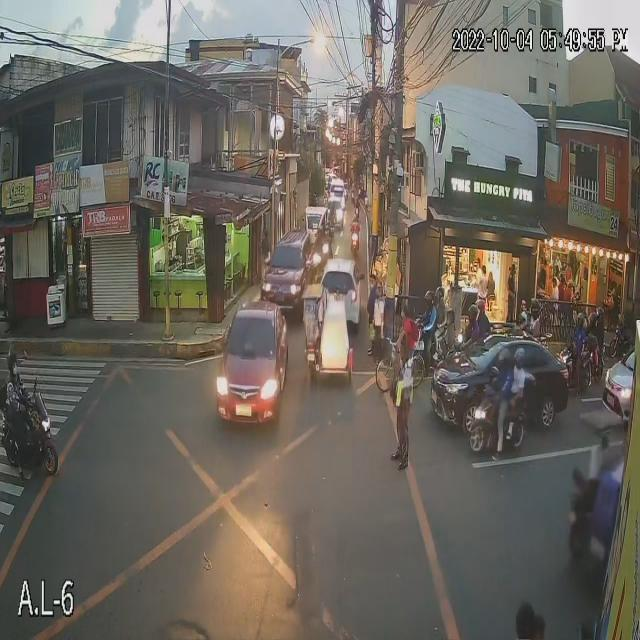helmet: (2, 345, 22, 387), (492, 348, 510, 375), (514, 344, 532, 367), (473, 298, 490, 320), (465, 302, 480, 326), (571, 313, 588, 332), (595, 304, 611, 324), (583, 311, 596, 332), (437, 285, 449, 303), (424, 292, 432, 315)
motorcycle: (0, 392, 61, 475), (469, 393, 532, 458), (401, 324, 452, 367), (555, 348, 595, 387), (349, 230, 362, 256)
rider: (0, 343, 29, 416), (490, 348, 514, 411), (509, 348, 530, 404), (571, 309, 588, 368), (421, 289, 438, 335), (434, 279, 448, 326), (474, 293, 489, 327), (468, 300, 478, 341), (586, 309, 598, 343), (595, 305, 605, 343), (350, 216, 361, 236)
